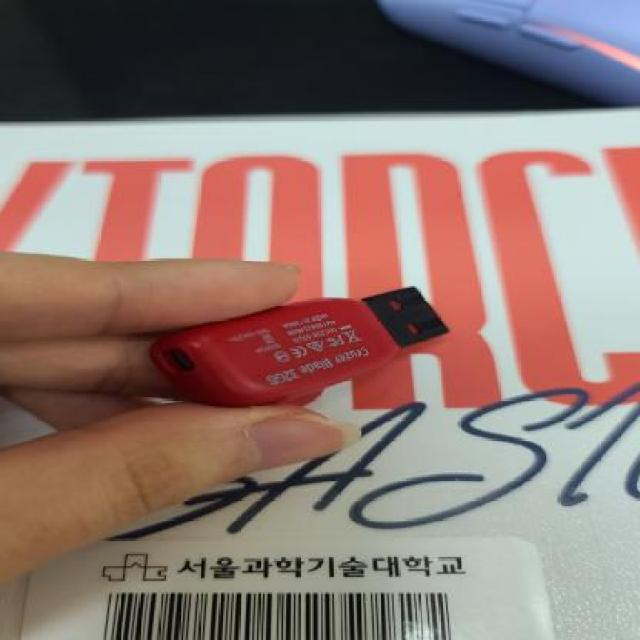Flashdisk: (150, 284, 452, 408)
